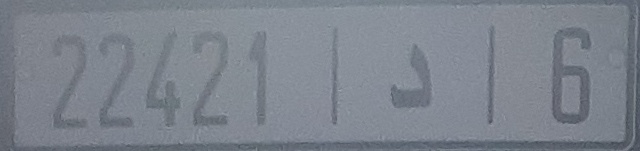1: (243, 28, 274, 127)
2: (92, 32, 137, 129), (49, 33, 93, 132), (189, 30, 232, 129)
4: (142, 30, 184, 128)
6: (547, 24, 595, 126)
d: (387, 41, 436, 114)
